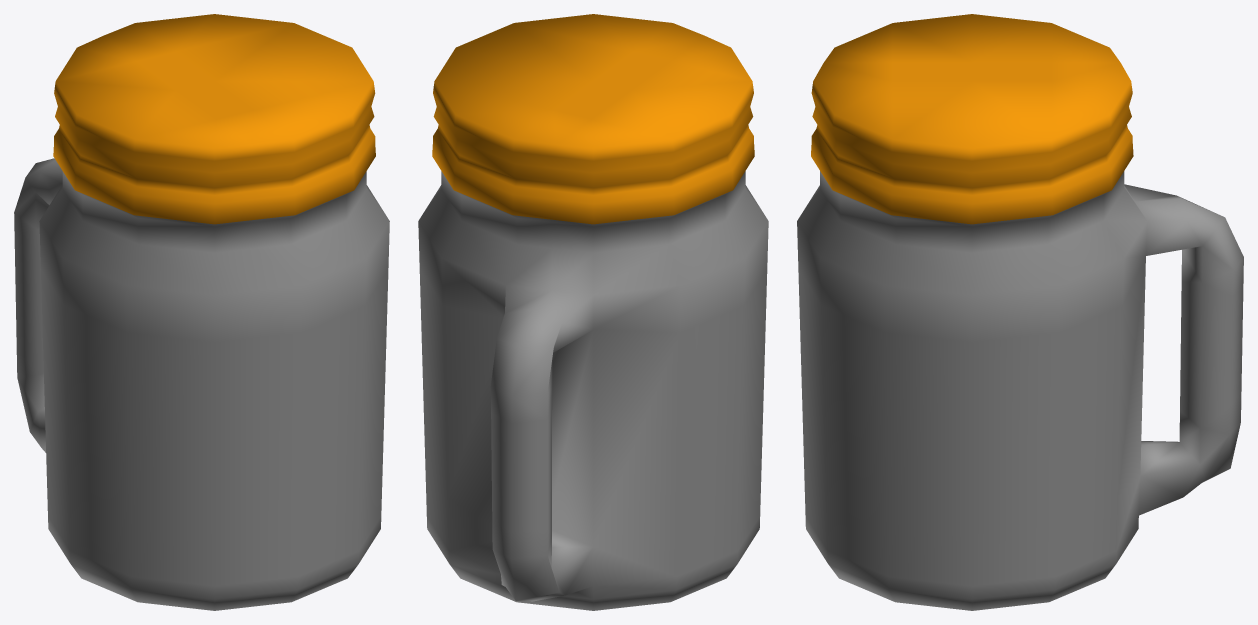
File: SM_Moonshine.fbx
3 renders of one model, left to right at view 1: azimuth 30°, elevation 25°; view 2: azimuth 150°, elevation 25°; view 3: azimuth 270°, elevation 25°, orthographic.
Visible parts, largest first — view 1: SM_Moonshine; view 2: SM_Moonshine; view 3: SM_Moonshine.
Boxes of the visible parts, x1,y1,x2,y2 form: SM_Moonshine: [14, 14, 389, 610]; SM_Moonshine: [418, 14, 768, 610]; SM_Moonshine: [797, 14, 1243, 610].
Bounding box in the file's own units: 10.52 × 15.4 × 13.42.
